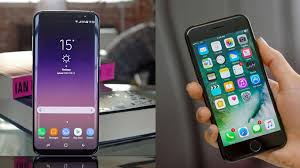iphone: (181, 13, 286, 158)
samsung: (32, 7, 102, 160)
